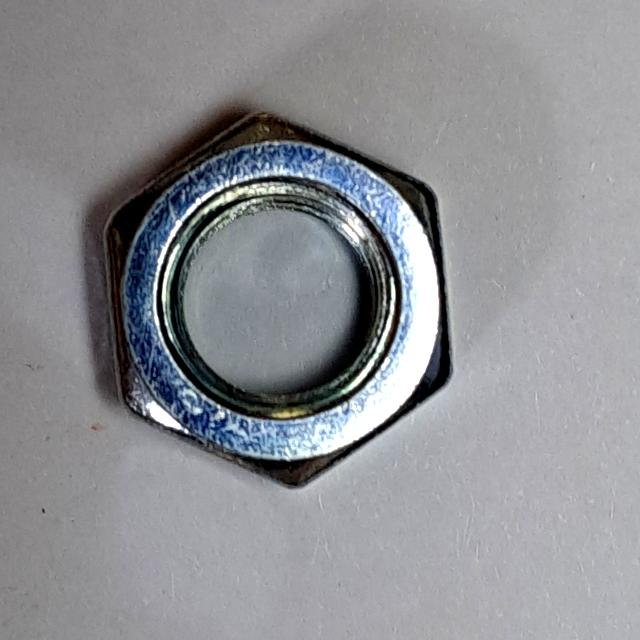Excellent: (87, 96, 479, 505)
